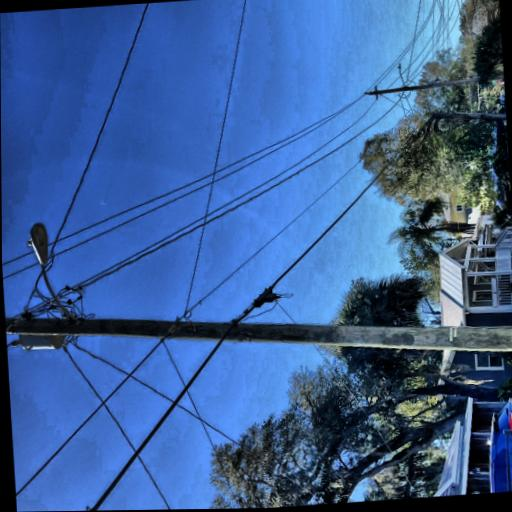pole: (0, 47, 98, 512)
street light: (50, 180, 150, 245)
transformer: (31, 171, 61, 222)
